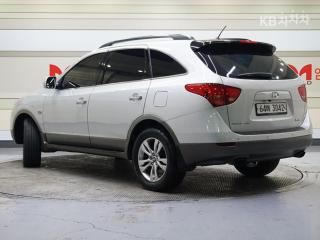0: (275, 104, 279, 111)
2: (281, 104, 285, 111)
3: (272, 104, 275, 112)
4: (263, 105, 267, 113), (278, 104, 282, 111)
6: (259, 105, 264, 113)
허: (266, 104, 271, 112)
